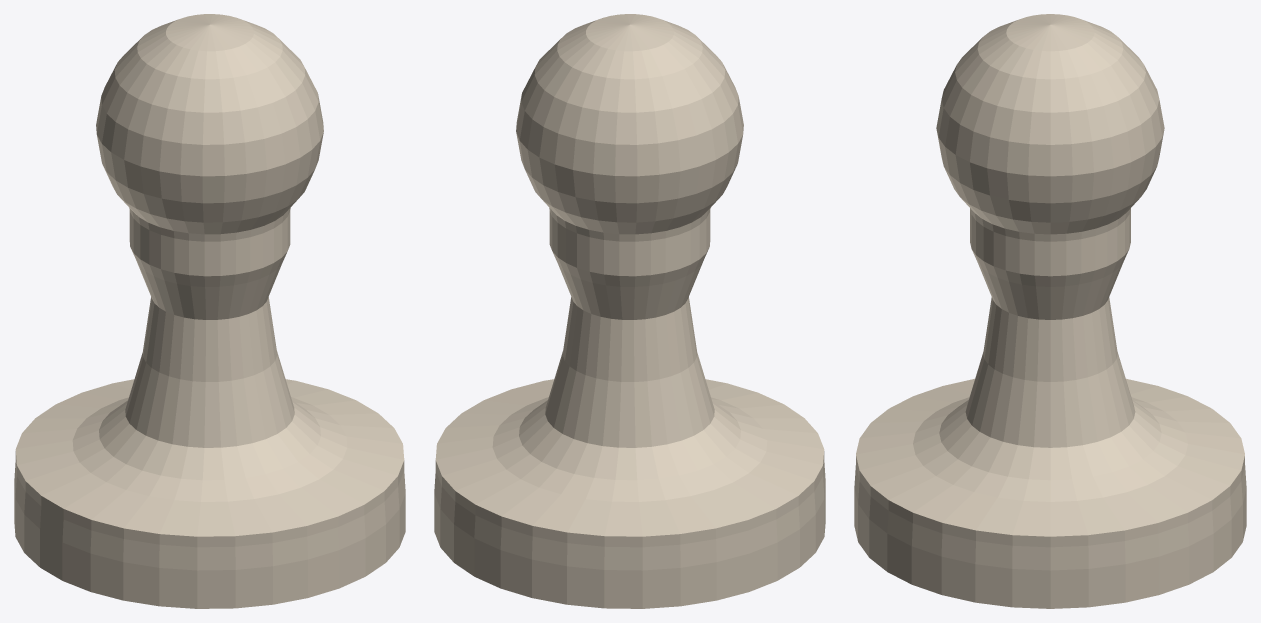
Rendered from fractal-pawn-lattice-ember.glb.
3 renders of one model, left to right at view 1: azimuth 30°, elevation 25°; view 2: azimuth 150°, elevation 25°; view 3: azimuth 270°, elevation 25°, orthographic.
Visible parts, largest first — view 1: Ember lattice pawn; view 2: Ember lattice pawn; view 3: Ember lattice pawn.
Boxes of the visible parts, bbox=[...] form: Ember lattice pawn: bbox=[14, 14, 405, 608]; Ember lattice pawn: bbox=[434, 14, 825, 608]; Ember lattice pawn: bbox=[854, 14, 1246, 608].
Bounding box in the file's own units: 1.34 × 1.89 × 1.34.
